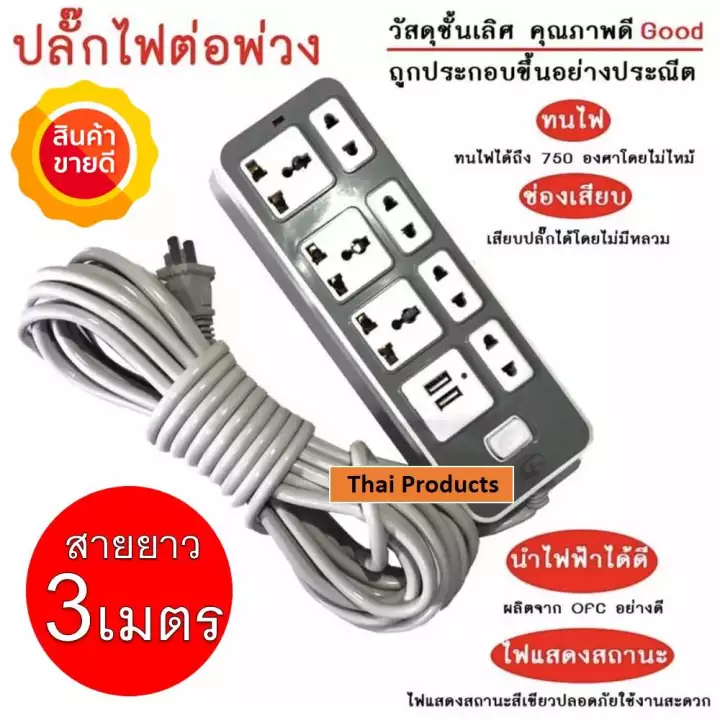Three_eye_plug: (197, 66, 608, 546)
